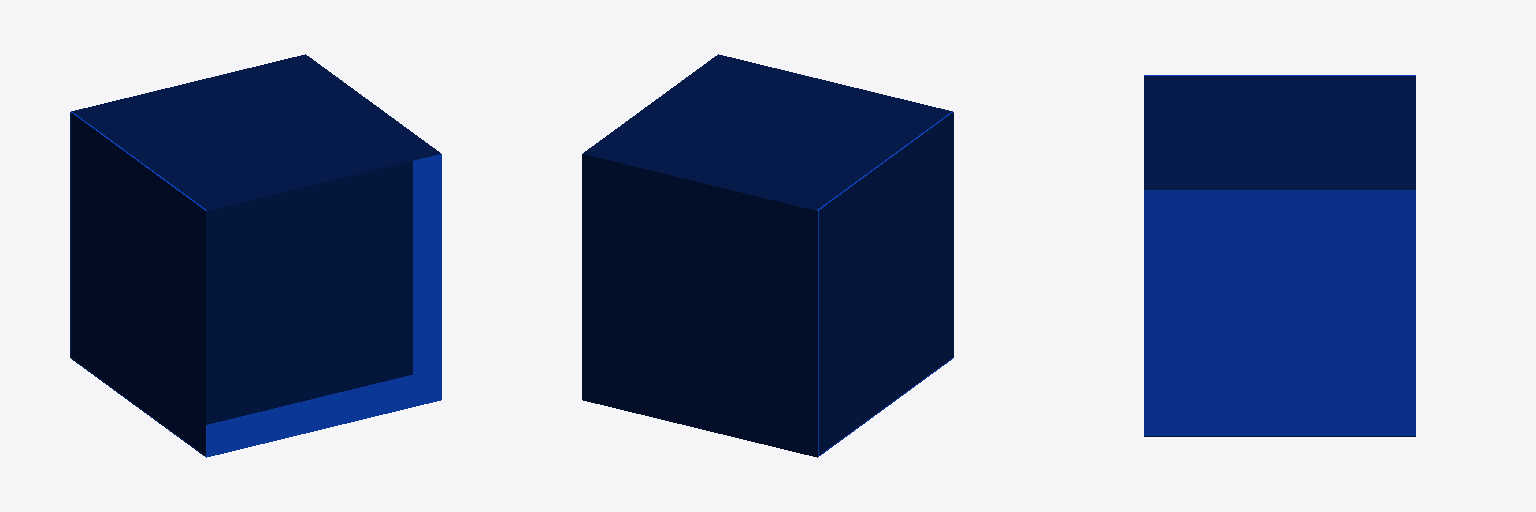
The picture shows the model from 3 angles: view 1: azimuth 30°, elevation 25°; view 2: azimuth 150°, elevation 25°; view 3: azimuth 270°, elevation 25°; orthographic projection.
Parts seen in each view (by area): view 1: Cube; view 2: Cube; view 3: Cube.
Part boxes in pixels (left/top/right/bottom): Cube: left=70, top=54, right=441, bottom=457; Cube: left=582, top=54, right=953, bottom=457; Cube: left=1144, top=75, right=1415, bottom=436.
Bounding box in the file's own units: 2 × 2 × 2.
Materials: 1 (1 with a texture image).